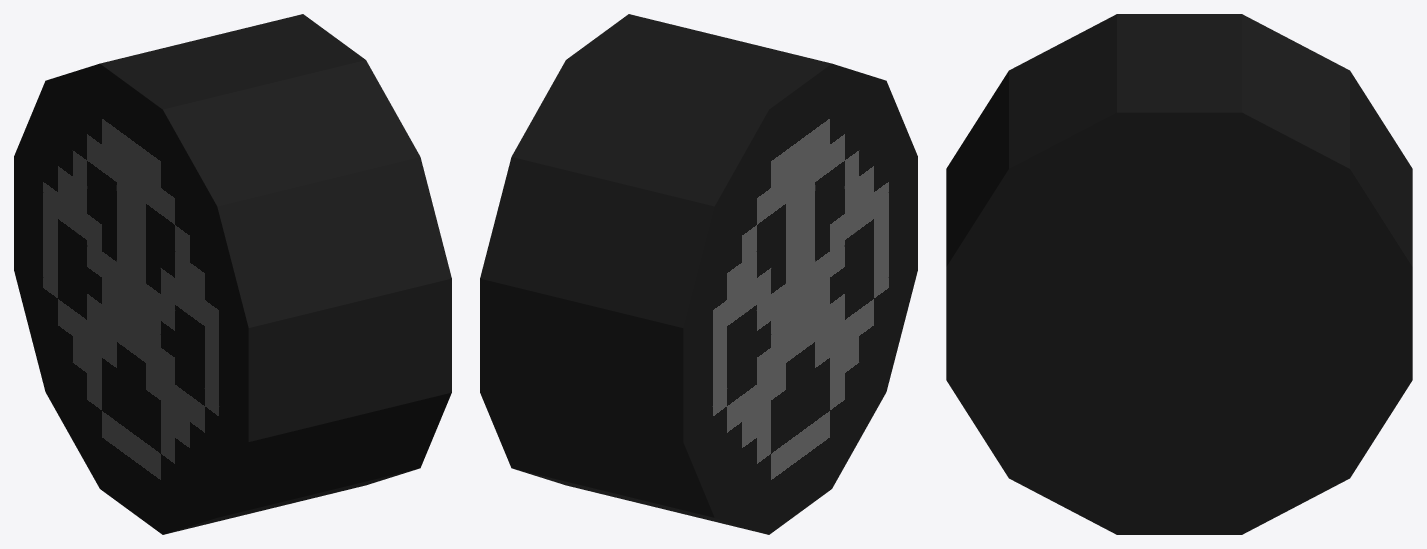
File: wheel.fbx
3 renders of one model, left to right at view 1: azimuth 30°, elevation 25°; view 2: azimuth 150°, elevation 25°; view 3: azimuth 270°, elevation 25°, orthographic.
Parts seen in each view (by area): view 1: cylinder; view 2: cylinder; view 3: cylinder.
Part boxes in pixels (x1,y1,x2,y2): cylinder: [14, 14, 451, 534]; cylinder: [480, 14, 917, 534]; cylinder: [946, 14, 1412, 534].
Size of the model in its own units: 50 by 100 by 100.
1 material, 1 textured.
